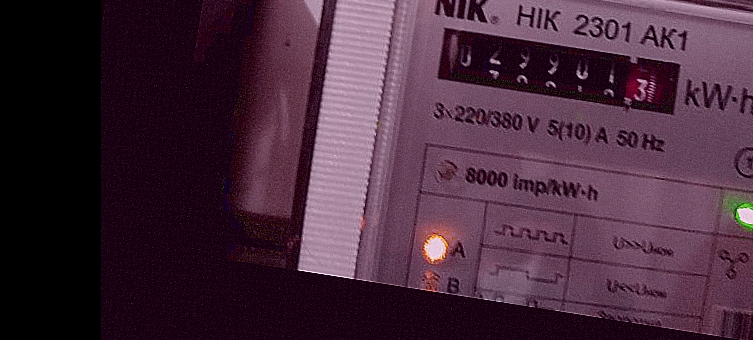0: (455, 38, 477, 68), (573, 51, 593, 82)
1: (604, 55, 621, 84)
2: (485, 37, 507, 67)
3: (631, 74, 651, 102)
9: (515, 42, 535, 71), (546, 48, 563, 76)
screen: (426, 15, 694, 126)
